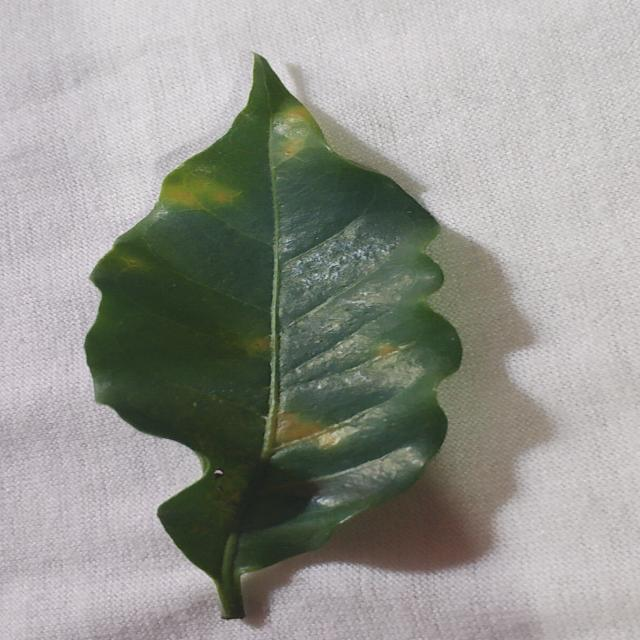Enfermedad-Roya: (84, 56, 465, 623)
